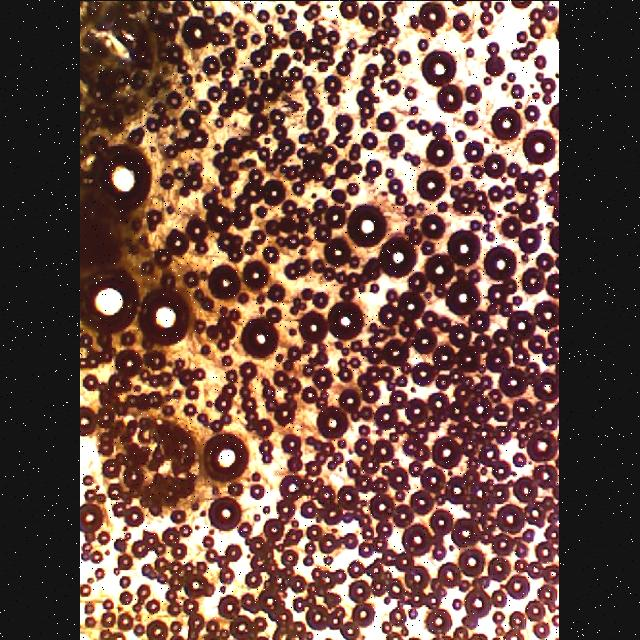microbeads: (90, 140, 152, 216), (80, 268, 140, 334), (136, 285, 192, 347), (203, 431, 251, 485), (349, 202, 389, 250), (242, 315, 282, 361), (419, 48, 459, 88)
